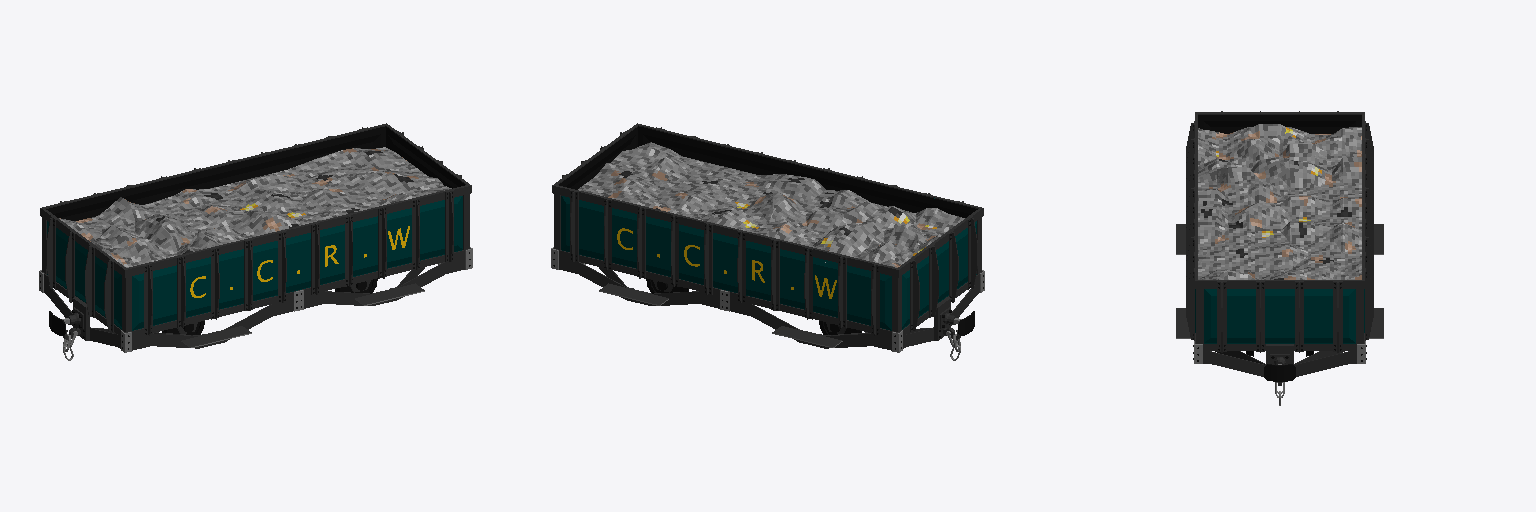
The picture shows the model from 3 angles: view 1: azimuth 30°, elevation 25°; view 2: azimuth 150°, elevation 25°; view 3: azimuth 270°, elevation 25°; orthographic projection.
Parts seen in each view (by area): view 1: SHELL, CARGO_FILL_75, FRAME, COUPLER_FRONT; view 2: SHELL, CARGO_FILL_75, FRAME, COUPLER_FRONT; view 3: CARGO_FILL_75, SHELL, FRAME, COUPLER_REAR.
Boxes of the visible parts, x1,y1,x2,y2 form: SHELL: [46, 126, 464, 335]; CARGO_FILL_75: [59, 147, 451, 267]; FRAME: [39, 123, 472, 352]; COUPLER_FRONT: [49, 307, 83, 360]; SHELL: [559, 126, 977, 335]; CARGO_FILL_75: [578, 142, 964, 267]; FRAME: [551, 123, 984, 352]; COUPLER_FRONT: [940, 307, 974, 360]; CARGO_FILL_75: [1198, 124, 1361, 279]; SHELL: [1186, 111, 1373, 352]; FRAME: [1176, 112, 1383, 376]; COUPLER_REAR: [1264, 354, 1295, 405].
Bounding box in the file's own units: 6.23 × 1.75 × 2.77.
2 materials, 2 textured.